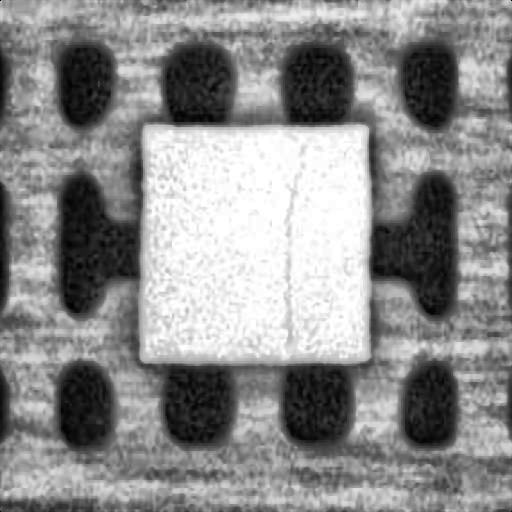DIE_CRACK: (281, 138, 310, 334)
